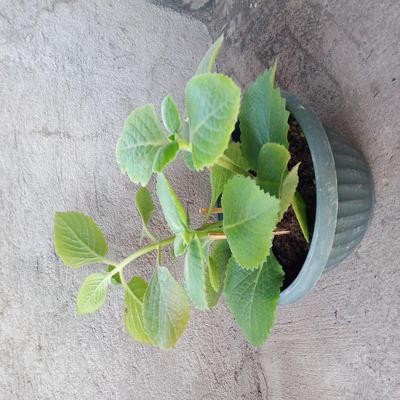Oregano: (47, 84, 288, 345)
